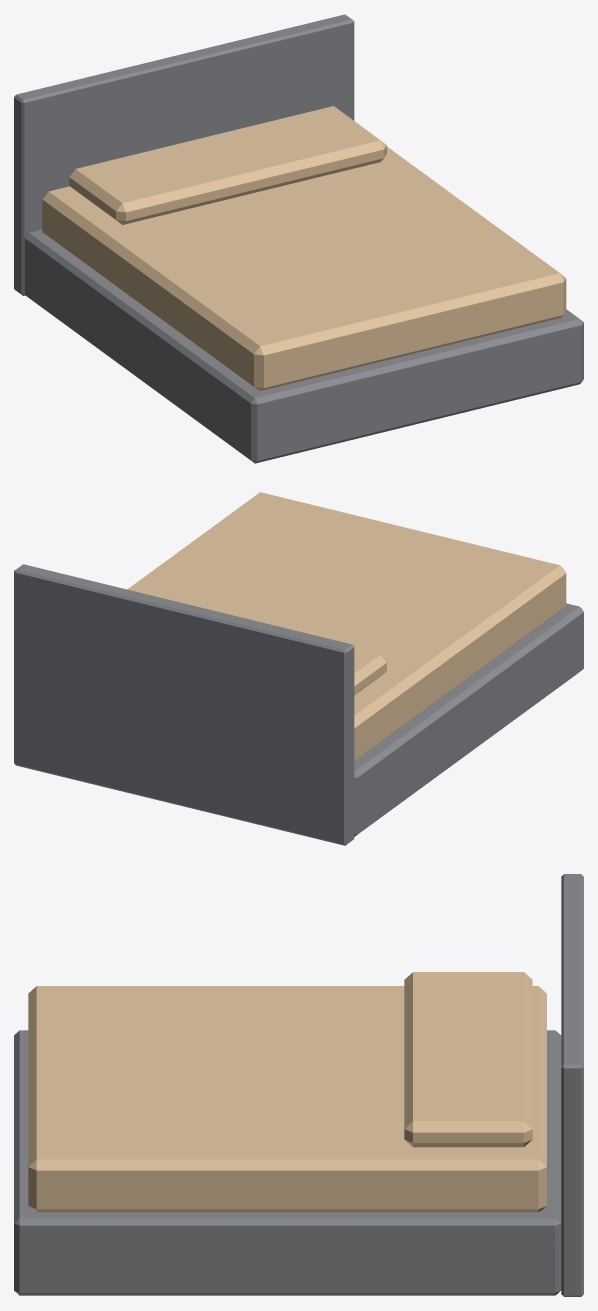
File: bed.glb
The picture shows the model from 3 angles, top to bottom: view 1: azimuth 30°, elevation 25°; view 2: azimuth 150°, elevation 25°; view 3: azimuth 270°, elevation 25°; orthographic projection. The views are drawn at different scales.
Parts seen in each view (by area): view 1: bed; view 2: bed; view 3: bed.
Part boxes in pixels (left/top/right/bottom): bed: left=14, top=14, right=583, bottom=463; bed: left=14, top=492, right=583, bottom=845; bed: left=14, top=874, right=583, bottom=1296.
Bounding box in the file's own units: 1.6 × 0.9 × 2.
